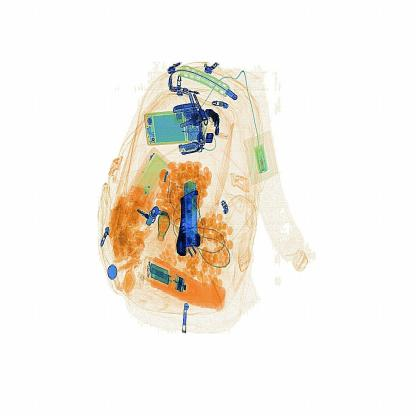pliers: (174, 179, 211, 261)
